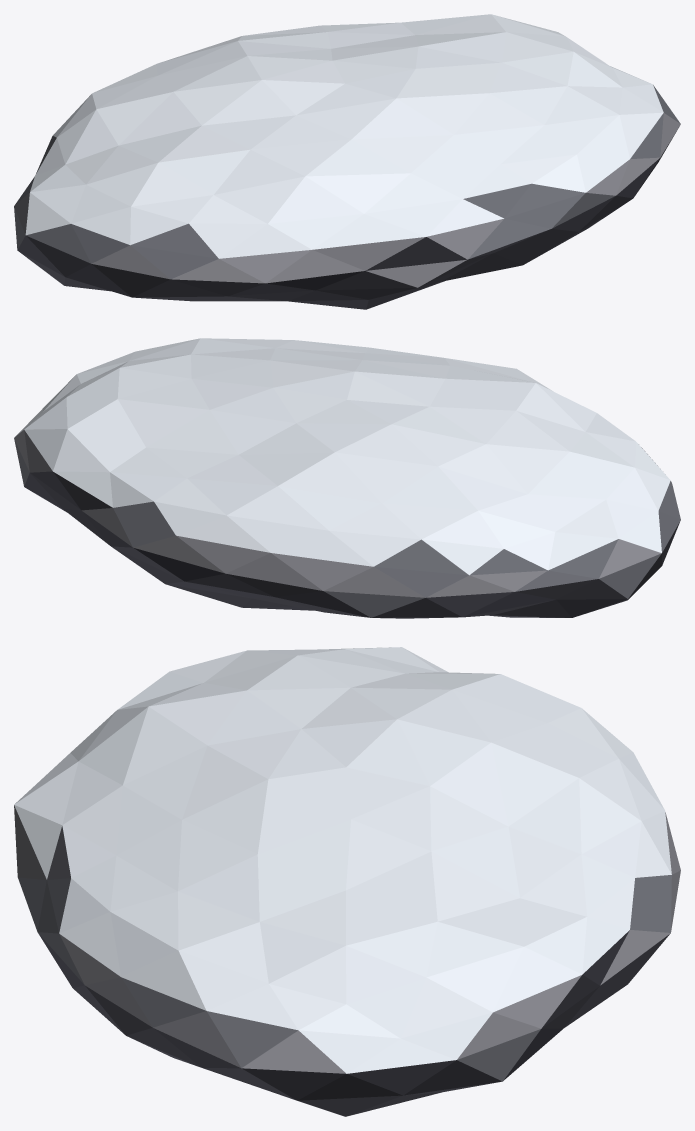
File: rock_flat.obj
3 renders of one model, top to bottom at view 1: azimuth 30°, elevation 25°; view 2: azimuth 150°, elevation 25°; view 3: azimuth 270°, elevation 25°, orthographic. The views are drawn at different scales.
Parts seen in each view (by area): view 1: rock_flat; view 2: rock_flat; view 3: rock_flat.
Boxes of the visible parts, x1,y1,x2,y2 form: rock_flat: (14,14,680,309); rock_flat: (14,338,680,618); rock_flat: (14,647,680,1116).
Size of the model in its own units: 14.33 by 3.88 by 10.07.
1 material, 1 textured.
